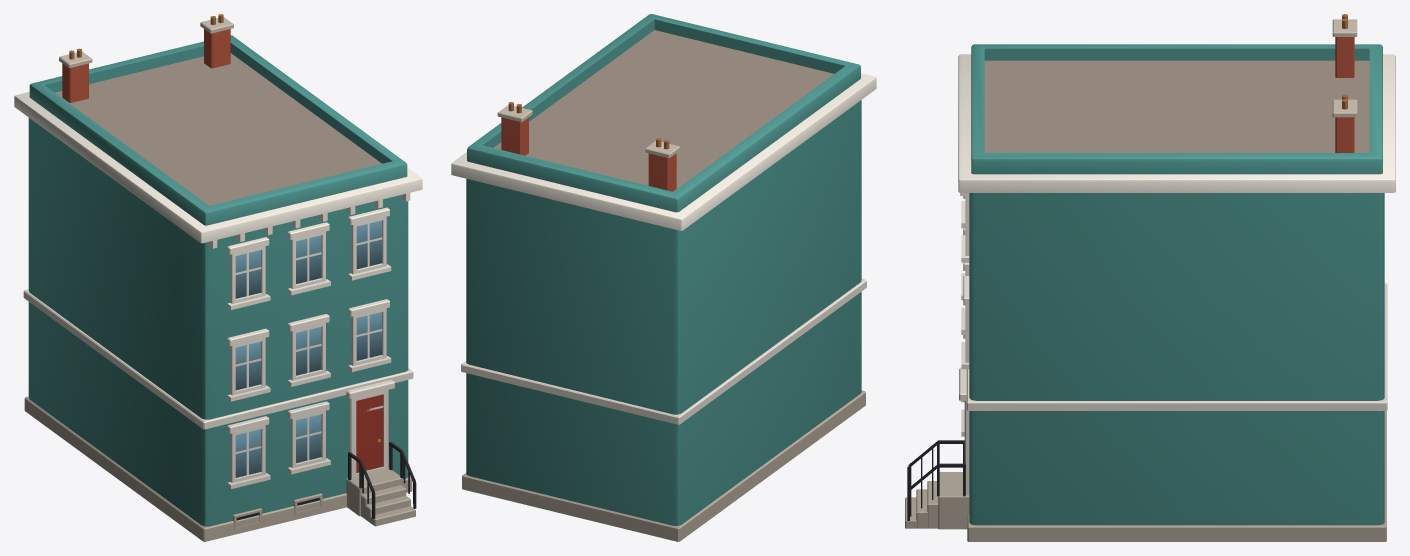
The model's file is beacon_n1.glb.
The picture shows the model from 3 angles, left to right: view 1: azimuth 30°, elevation 25°; view 2: azimuth 150°, elevation 25°; view 3: azimuth 270°, elevation 25°; orthographic projection. The views are drawn at different scales.
Parts seen in each view (by area): view 1: beacon_n1; view 2: beacon_n1; view 3: beacon_n1.
Boxes of the visible parts, x1=… form: beacon_n1: x1=14, y1=14, x2=422, y2=541; beacon_n1: x1=451, y1=14, x2=876, y2=541; beacon_n1: x1=905, y1=14, x2=1395, y2=541.
Bounding box in the file's own units: 8.64 × 13.54 × 14.18.
Materials: 1 (1 with a texture image).
